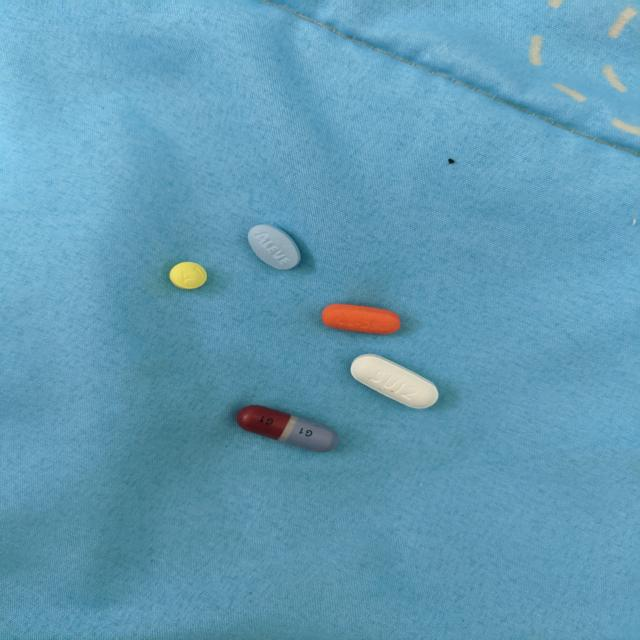non-organic waste: (236, 404, 340, 454), (350, 353, 440, 409), (246, 223, 302, 270), (321, 302, 402, 334), (169, 260, 208, 290)
